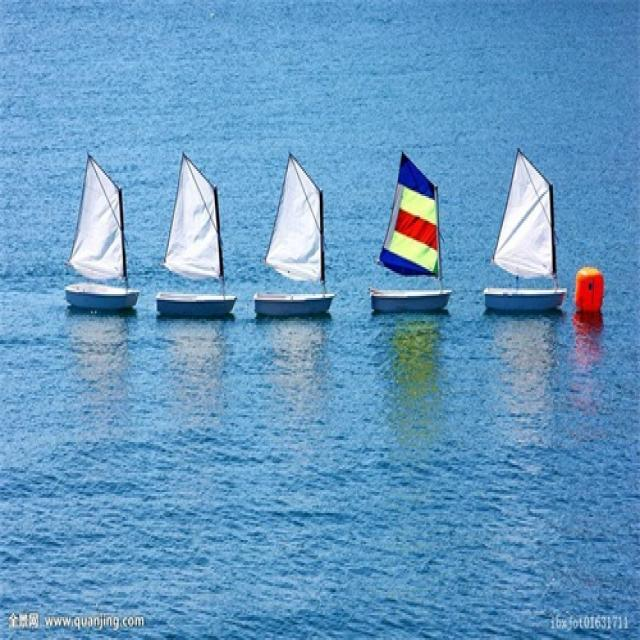Ship: (251, 154, 337, 324), (371, 145, 454, 317), (160, 151, 240, 318), (488, 148, 567, 313), (60, 152, 141, 308)
